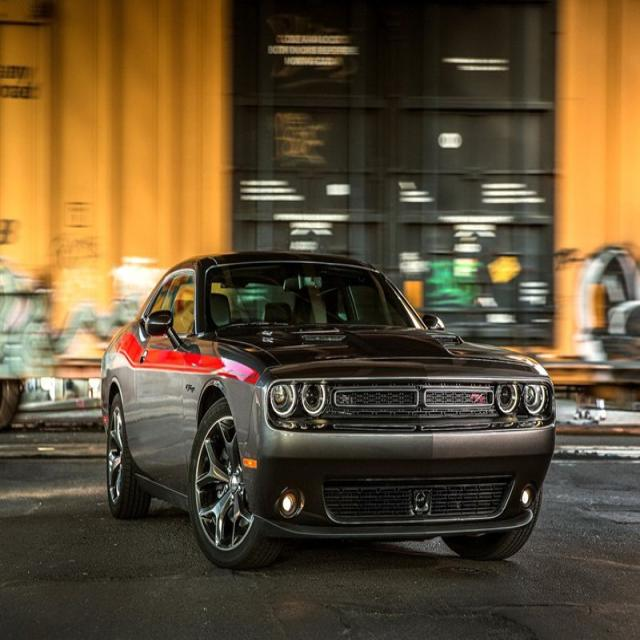front_bumper: (240, 424, 558, 538)
front_glass: (203, 261, 426, 335)
front_left_side_light: (494, 376, 548, 423)
front_left_side_mirror: (421, 308, 445, 335)
front_right_side_door: (133, 264, 205, 496)
front_right_side_light: (264, 374, 330, 426)
front_right_side_mirror: (144, 310, 178, 346)
wheel: (190, 395, 286, 568), (107, 398, 148, 520)
